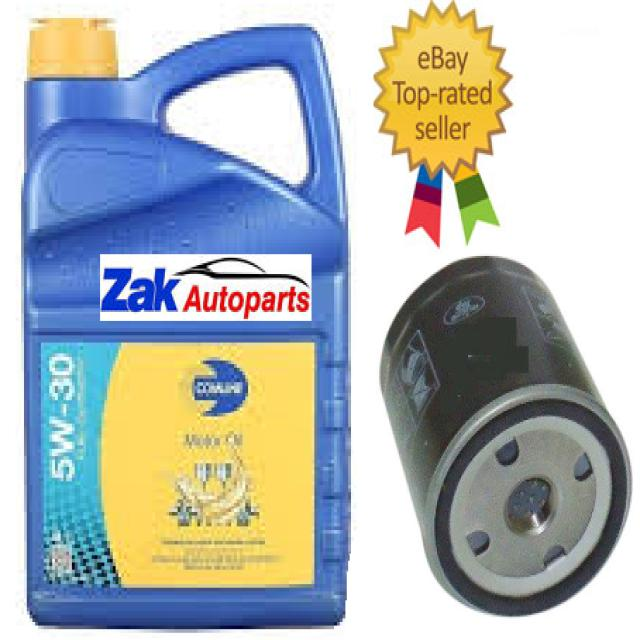motor_oil: (20, 13, 353, 633)
oil_filter: (374, 253, 636, 622)
